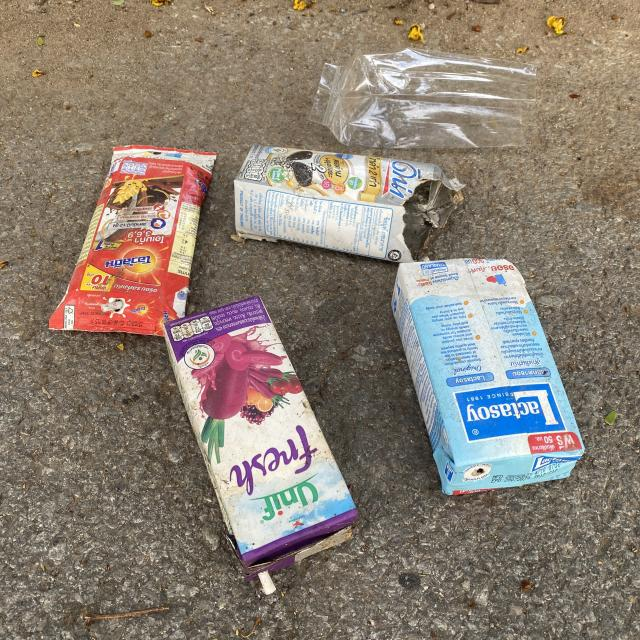Single-layer Plastic: (310, 49, 536, 149)
